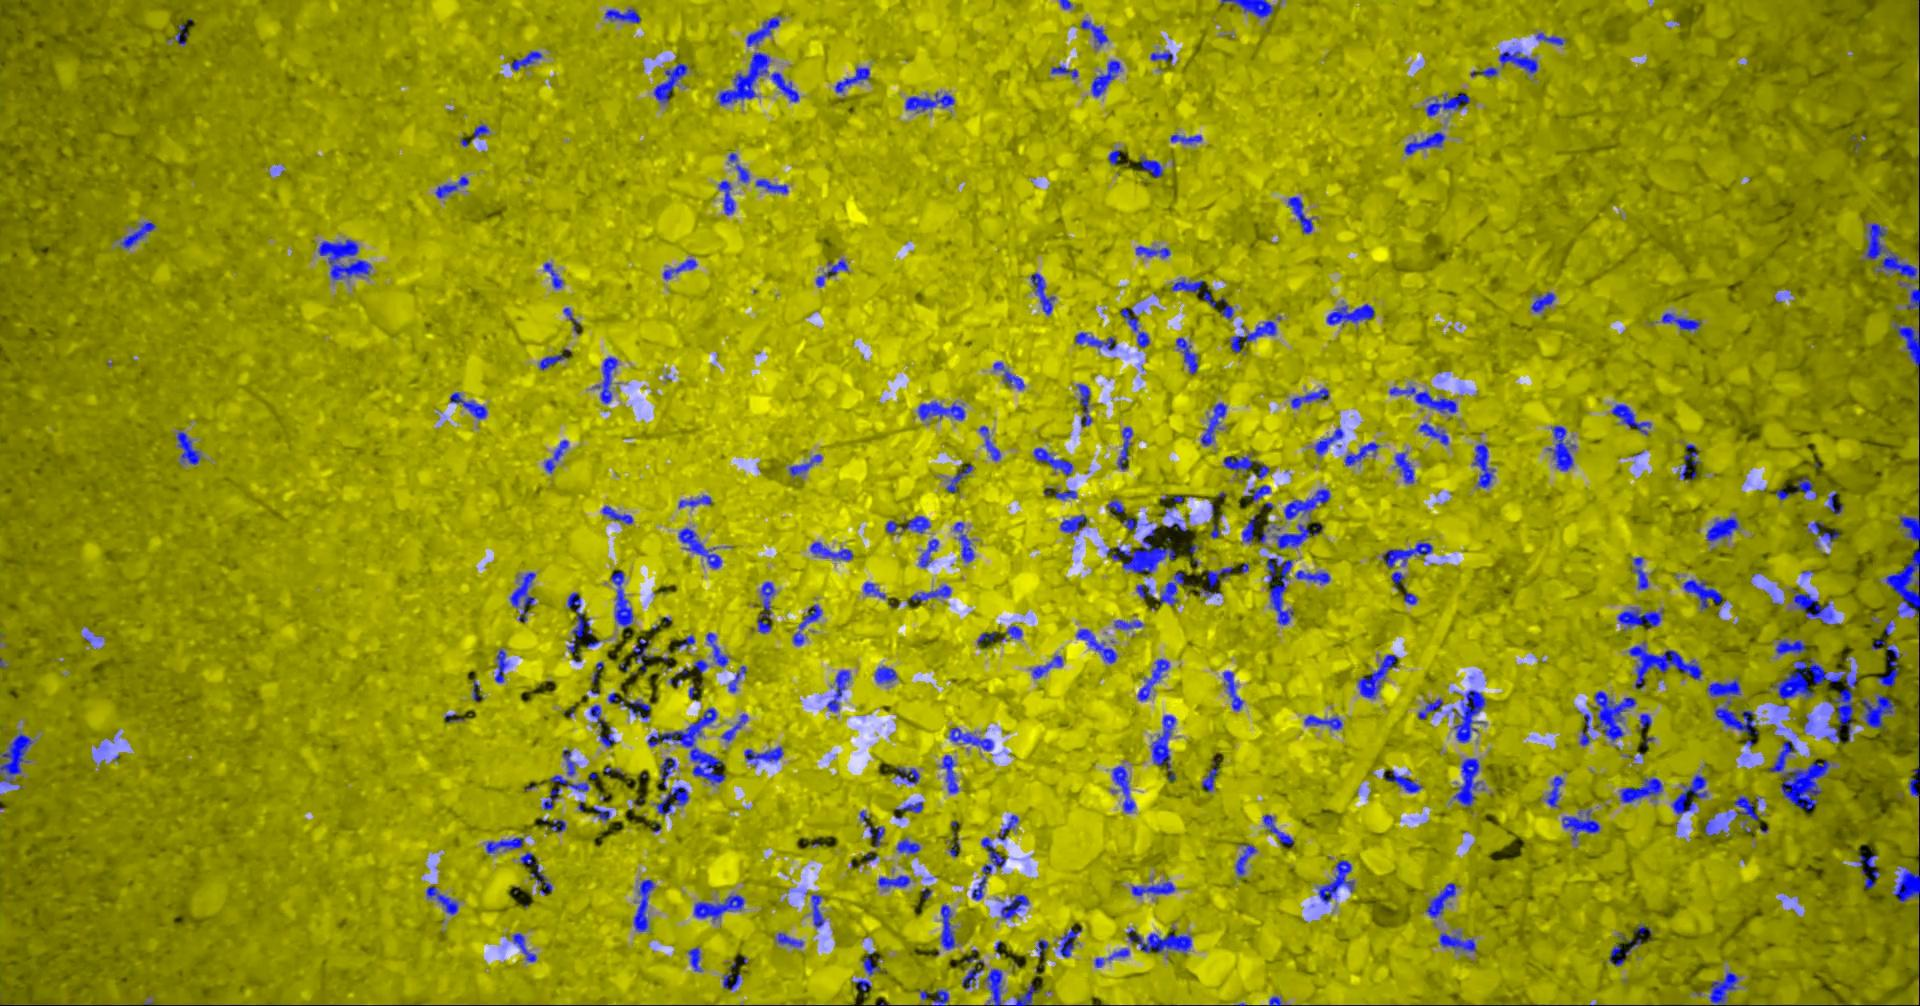ant: (1109, 526, 1177, 573), (1709, 678, 1760, 734), (1867, 224, 1917, 278), (719, 52, 771, 104), (1887, 549, 1920, 616), (320, 239, 373, 279), (973, 837, 1007, 899), (1596, 690, 1637, 741), (985, 968, 1040, 1005), (1267, 558, 1295, 624), (1359, 654, 1398, 699), (1, 732, 34, 784), (1390, 386, 1458, 412), (681, 527, 723, 568), (1455, 688, 1487, 742), (569, 592, 593, 661), (1128, 929, 1192, 954), (1153, 714, 1177, 780), (1321, 859, 1356, 903), (1672, 774, 1709, 814), (1232, 320, 1277, 352), (1077, 627, 1117, 663), (1286, 488, 1331, 520), (1454, 758, 1483, 807), (655, 64, 690, 103), (1794, 589, 1834, 624), (1139, 658, 1171, 700), (1895, 321, 1920, 373), (510, 572, 537, 621), (1548, 426, 1577, 470), (695, 894, 745, 920), (1684, 579, 1727, 608), (1613, 403, 1652, 434), (612, 572, 634, 627), (1384, 542, 1434, 567), (794, 605, 823, 645), (1092, 58, 1123, 97), (1274, 525, 1324, 547), (1862, 694, 1896, 727), (635, 879, 657, 931), (1564, 809, 1601, 840), (1123, 307, 1150, 347), (1035, 447, 1074, 475), (1203, 401, 1228, 445), (596, 356, 618, 403), (1114, 765, 1137, 812), (1878, 644, 1903, 686), (1473, 443, 1497, 486), (1427, 882, 1457, 917), (951, 727, 996, 749), (1032, 272, 1057, 314), (828, 669, 852, 711), (1622, 777, 1663, 801), (1263, 814, 1295, 846), (1427, 93, 1470, 116), (1225, 456, 1271, 478), (451, 392, 488, 419), (1328, 304, 1377, 324), (905, 91, 956, 111), (748, 17, 781, 46), (1201, 567, 1236, 594), (1710, 970, 1738, 1005), (122, 221, 157, 248), (1289, 196, 1314, 232), (1406, 131, 1446, 154), (1619, 607, 1665, 627), (658, 786, 690, 815), (427, 885, 458, 915), (1625, 923, 1653, 956), (1735, 796, 1760, 832), (861, 810, 886, 846), (1500, 50, 1539, 72), (994, 361, 1026, 389), (1222, 0, 1275, 17), (817, 259, 850, 286), (1893, 868, 1920, 901), (1777, 476, 1815, 499), (759, 580, 776, 633), (836, 67, 871, 91), (1161, 572, 1186, 605), (919, 401, 966, 419), (955, 521, 975, 561), (888, 514, 931, 533), (811, 541, 855, 560), (772, 72, 800, 102), (1316, 427, 1345, 455), (1388, 770, 1423, 793), (1076, 332, 1117, 351), (546, 439, 570, 473), (1707, 517, 1740, 541), (1177, 337, 1199, 373), (1346, 442, 1380, 465), (634, 638, 657, 672), (1291, 387, 1330, 408), (1680, 443, 1702, 479), (178, 431, 201, 464), (1808, 521, 1841, 544), (1225, 671, 1244, 710), (745, 746, 785, 765), (1082, 19, 1109, 47), (723, 713, 749, 741), (980, 426, 1002, 460), (1859, 854, 1881, 888), (790, 453, 823, 475), (949, 464, 974, 492), (664, 259, 698, 279), (1420, 422, 1450, 445), (1034, 655, 1064, 678), (1237, 843, 1258, 875), (1663, 312, 1702, 330), (1441, 932, 1477, 951), (1096, 948, 1131, 967), (1002, 894, 1030, 918), (437, 177, 470, 197), (709, 633, 729, 666), (514, 932, 537, 962), (1119, 426, 1134, 469), (551, 775, 590, 791), (532, 862, 552, 894), (1078, 384, 1093, 426), (910, 586, 952, 601), (943, 754, 960, 793), (1133, 882, 1177, 895), (942, 904, 956, 949), (621, 699, 651, 719), (488, 837, 524, 854), (512, 51, 543, 70), (1062, 927, 1082, 956), (863, 951, 888, 976), (1396, 452, 1415, 483), (919, 539, 940, 567), (720, 180, 737, 213), (603, 506, 634, 523), (1547, 776, 1564, 807), (1305, 715, 1343, 729), (1418, 699, 1444, 719), (999, 814, 1020, 840), (606, 8, 643, 22), (545, 262, 564, 288), (1062, 514, 1088, 533), (1901, 516, 1920, 542), (1203, 761, 1219, 791), (757, 178, 789, 193), (1634, 558, 1650, 589), (1297, 570, 1331, 584), (1142, 156, 1164, 177), (1533, 292, 1556, 312), (1777, 639, 1807, 654), (662, 757, 677, 788), (919, 989, 950, 1005), (1173, 279, 1205, 293), (565, 307, 582, 334), (730, 666, 747, 692), (963, 967, 983, 988), (540, 354, 568, 370), (497, 649, 509, 682), (813, 894, 825, 927), (1137, 245, 1172, 257), (1243, 514, 1258, 541), (590, 704, 606, 730), (879, 875, 910, 888), (897, 766, 921, 782), (543, 788, 561, 809), (865, 582, 888, 598), (1581, 713, 1592, 746), (681, 495, 712, 507), (876, 666, 898, 682), (1537, 32, 1564, 44), (1051, 65, 1079, 77), (778, 932, 804, 946), (1250, 485, 1272, 500), (898, 838, 921, 854), (174, 24, 190, 44), (564, 749, 577, 775), (1204, 285, 1218, 307), (1830, 492, 1844, 514), (1611, 942, 1625, 965), (690, 948, 703, 970), (724, 972, 742, 989), (601, 728, 617, 747), (1172, 133, 1203, 144), (1909, 288, 1920, 315), (1116, 619, 1144, 629), (897, 801, 924, 812), (1138, 584, 1156, 600), (737, 164, 750, 182), (1152, 51, 1175, 61), (475, 123, 490, 138), (1109, 500, 1125, 514), (594, 807, 611, 821), (979, 631, 997, 644), (1705, 817, 1718, 835), (1037, 939, 1050, 956), (1057, 489, 1078, 499), (1392, 572, 1404, 588), (1007, 625, 1023, 638), (1222, 304, 1236, 318), (1110, 149, 1123, 164), (552, 819, 568, 832), (856, 979, 872, 991), (1910, 779, 1920, 796), (1124, 517, 1138, 530), (1404, 592, 1418, 605), (695, 659, 709, 672), (1641, 713, 1652, 728), (1482, 67, 1498, 77), (522, 851, 535, 864)
